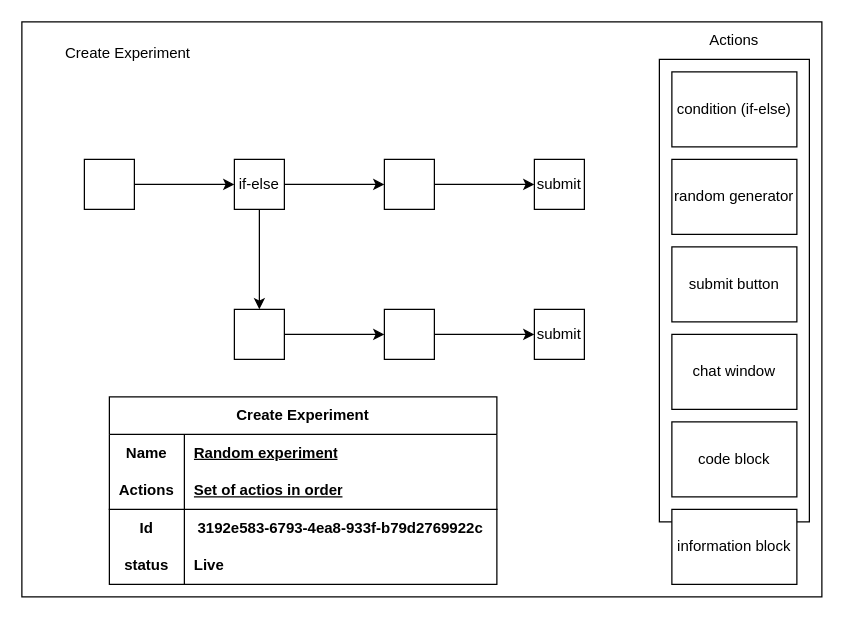
The diagram is 844 pixels wide and 619 high, and some of its shapes have lost their labels. Each missing label, with the centre of its shape:
code: the point at 258,333
graph: the point at 408,183
information: the point at 108,183
random number: the point at 408,333
